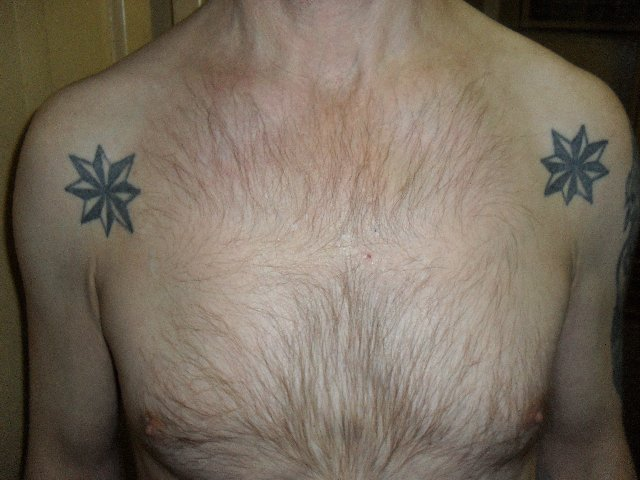tatu4_zvezda: (66, 145, 143, 237), (539, 124, 611, 208)
